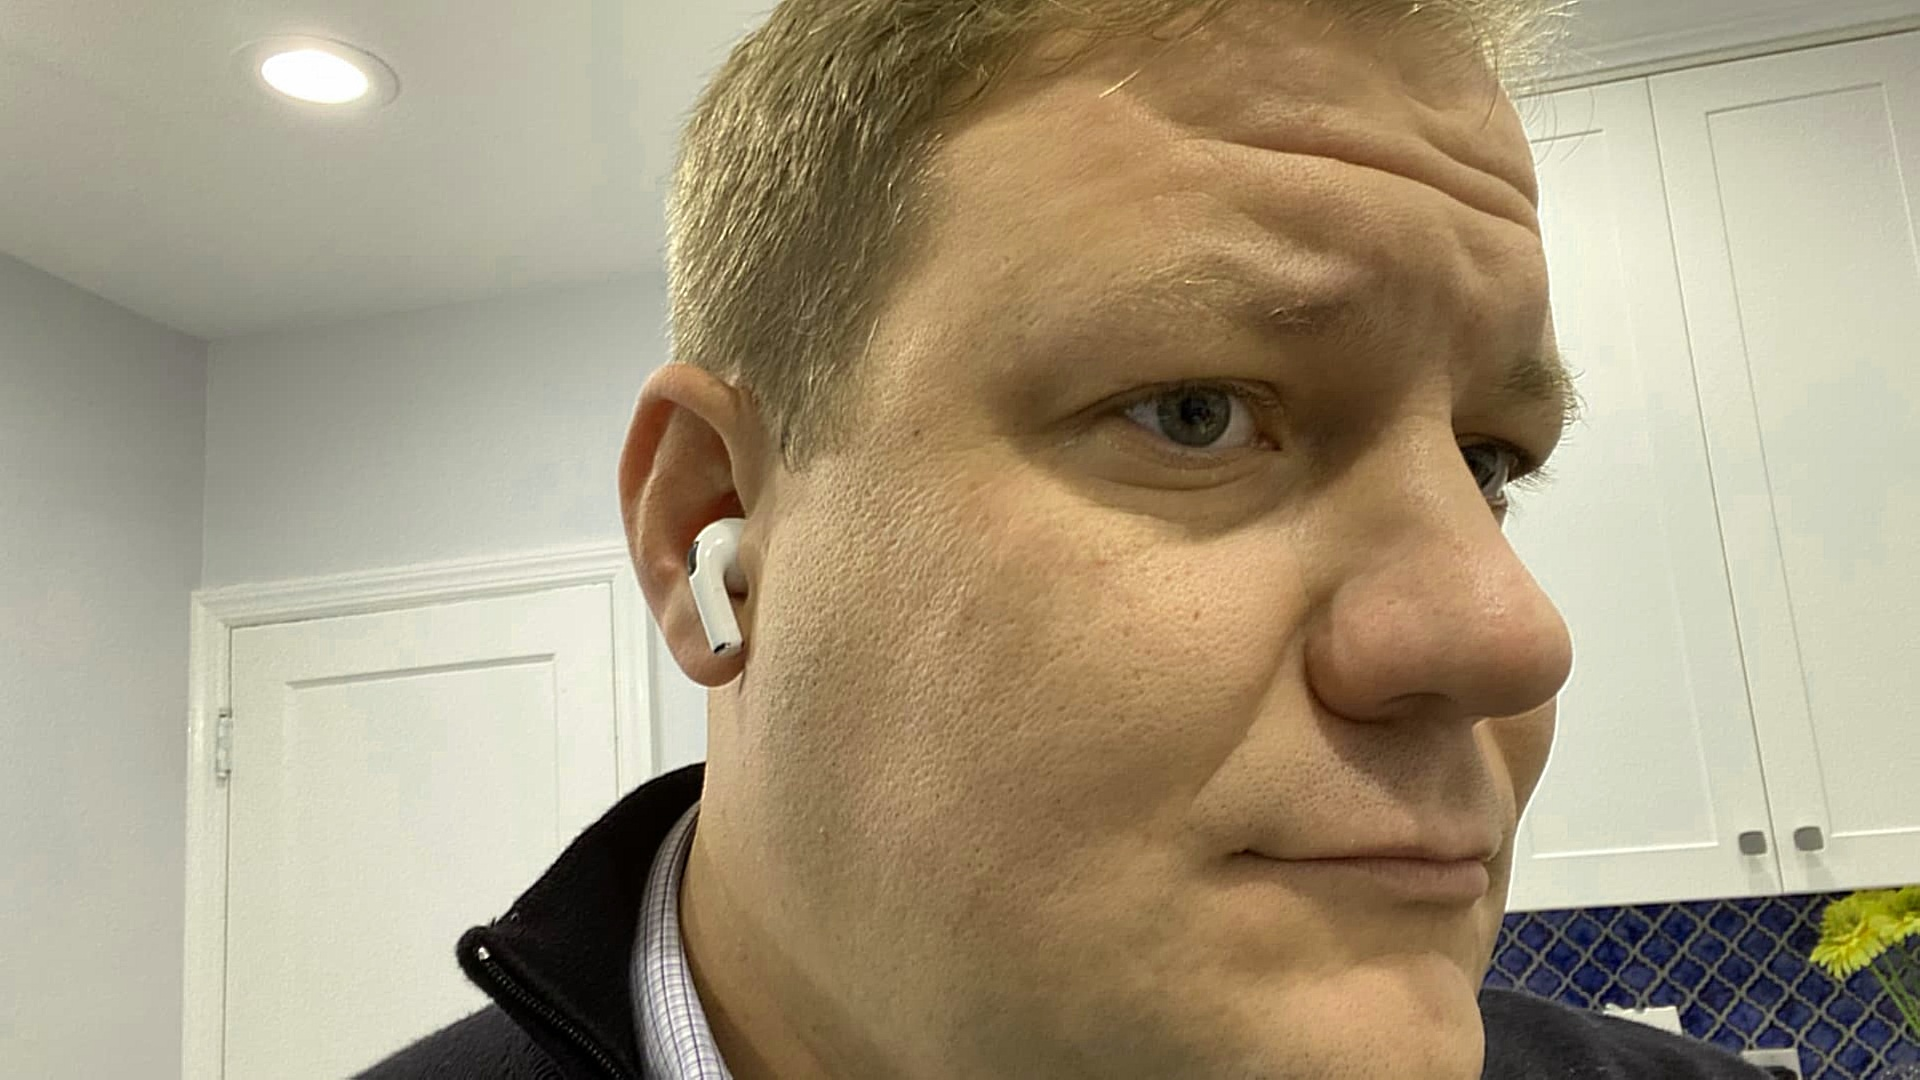earphone: (617, 363, 769, 688)
